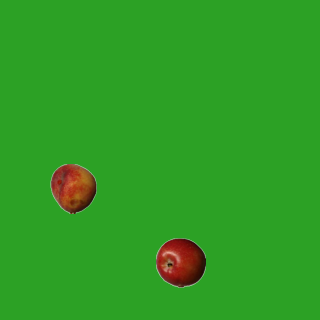Apple Braeburn: (155, 237, 205, 287)
Peach: (48, 163, 98, 213)
